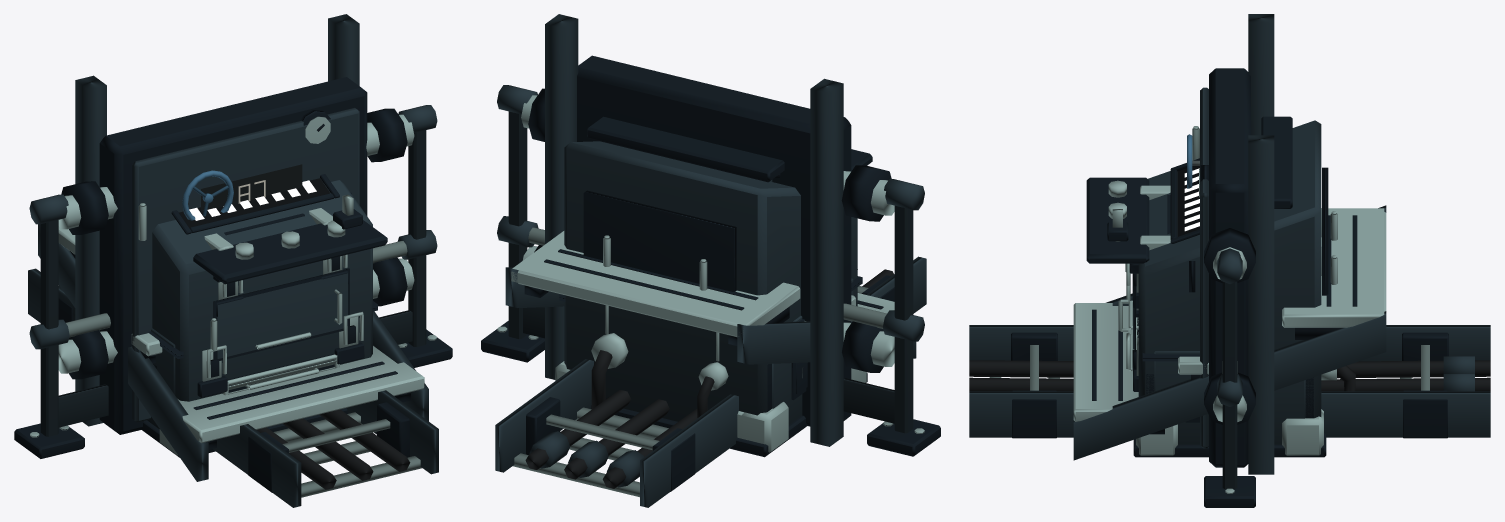
Rendered from service-kit.glb.
3 views of the same model, side by side, from view 1: azimuth 30°, elevation 25°; view 2: azimuth 150°, elevation 25°; view 3: azimuth 270°, elevation 25° (orthographic). The views are drawn at different scales.
Parts seen in each view (by area): view 1: service-console-bars--e9-body, service-access-hatch--e9-dark, service-access-hatch--e9-body, service-safety-rail--e9-body, service-three-step--e9-trim, service-console-bars--e9-dark, service-valve-manifold--e9-body, service-three-step--e9-body, service-valve-manifold--e9-dark, service-cable-tray--e9-body, service-cable-tray--p11-rubber, service-cable-tray--e9-trim (+15 smaller); view 2: service-console-bars--e9-body, service-valve-manifold--e9-body, service-access-hatch--e9-dark, service-console-bars--e9-dark, service-safety-rail--e9-body, service-cable-tray--e9-body, service-three-step--e9-trim, service-three-step--e9-body, service-valve-manifold--e9-dark, service-cable-tray--p11-rubber, service-cable-tray--e9-trim, service-safety-rail--e9-dark (+9 smaller); view 3: service-console-bars--e9-body, service-cable-tray--e9-body, service-three-step--e9-trim, service-valve-manifold--e9-body, service-access-hatch--e9-dark, service-three-step--e9-body, service-console-bars--e9-dark, service-cable-tray--p11-rubber, service-cable-tray--e9-dark, service-safety-rail--e9-body, service-transit-case--e9-trim, service-transit-case--e9-body (+10 smaller).
Part boxes in pixels (left/top/right/bottom): service-console-bars--e9-body: left=152, top=180, right=372, bottom=401; service-access-hatch--e9-dark: left=99, top=77, right=367, bottom=434; service-access-hatch--e9-body: left=132, top=108, right=359, bottom=422; service-safety-rail--e9-body: left=29, top=105, right=437, bottom=436; service-three-step--e9-trim: left=58, top=226, right=424, bottom=443; service-console-bars--e9-dark: left=141, top=174, right=387, bottom=457; service-valve-manifold--e9-body: left=75, top=14, right=359, bottom=426; service-three-step--e9-body: left=38, top=224, right=428, bottom=481; service-valve-manifold--e9-dark: left=61, top=108, right=407, bottom=379; service-cable-tray--e9-body: left=28, top=268, right=438, bottom=507; service-cable-tray--p11-rubber: left=257, top=409, right=410, bottom=489; service-cable-tray--e9-trim: left=273, top=412, right=422, bottom=497; service-console-bars--e9-body: left=564, top=141, right=857, bottom=421; service-valve-manifold--e9-body: left=545, top=14, right=843, bottom=446; service-access-hatch--e9-dark: left=577, top=55, right=851, bottom=426; service-console-bars--e9-dark: left=583, top=116, right=872, bottom=457; service-safety-rail--e9-body: left=497, top=85, right=924, bottom=433; service-cable-tray--e9-body: left=495, top=256, right=926, bottom=507; service-three-step--e9-trim: left=511, top=231, right=894, bottom=336; service-three-step--e9-body: left=505, top=267, right=916, bottom=364; service-valve-manifold--e9-dark: left=528, top=88, right=891, bottom=372; service-cable-tray--p11-rubber: left=525, top=269, right=893, bottom=488; service-cable-tray--e9-trim: left=513, top=286, right=868, bottom=497; service-safety-rail--e9-dark: left=481, top=321, right=940, bottom=456; service-console-bars--e9-body: left=1133, top=120, right=1321, bottom=418; service-cable-tray--e9-body: left=969, top=325, right=1490, bottom=437; service-three-step--e9-trim: left=1073, top=208, right=1386, bottom=421; service-valve-manifold--e9-body: left=1248, top=14, right=1274, bottom=474; service-access-hatch--e9-dark: left=1189, top=68, right=1250, bottom=467; service-three-step--e9-body: left=1073, top=205, right=1386, bottom=460; service-console-bars--e9-dark: left=1086, top=116, right=1328, bottom=457; service-cable-tray--p11-rubber: left=969, top=360, right=1490, bottom=391; service-cable-tray--e9-dark: left=1011, top=332, right=1448, bottom=438; service-safety-rail--e9-body: left=1217, top=248, right=1242, bottom=488; service-transit-case--e9-trim: left=1126, top=285, right=1323, bottom=455; service-transit-case--e9-body: left=1154, top=351, right=1305, bottom=444.
Size of the model in its own units: 1.8 by 1.4 by 2.
